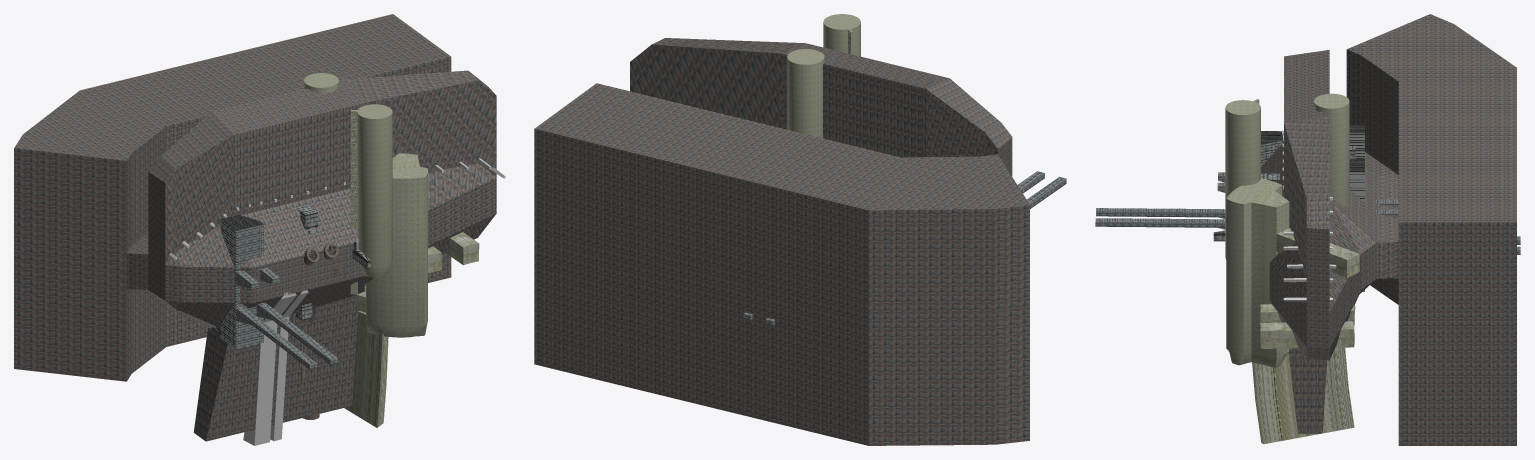
The model's file is SM_Republic_03_00.fbx.
The picture shows the model from 3 angles, left to right: view 1: azimuth 30°, elevation 25°; view 2: azimuth 150°, elevation 25°; view 3: azimuth 270°, elevation 25°; orthographic projection. The views are drawn at different scales.
Parts seen in each view (by area): view 1: SM_Republic_03_00.001, SM_Republic_03_00.006, SM_Republic_03_00, SM_Republic_03_00.002; view 2: SM_Republic_03_00.001, SM_Republic_03_00.006, SM_Republic_03_00; view 3: SM_Republic_03_00.001, SM_Republic_03_00.006, SM_Republic_03_00.
Part boxes in pixels (box(x1,y1,x2,y2)): SM_Republic_03_00.001: box(14, 14, 496, 445); SM_Republic_03_00.006: box(304, 73, 479, 427); SM_Republic_03_00: box(169, 158, 505, 369); SM_Republic_03_00.002: box(291, 243, 347, 419); SM_Republic_03_00.001: box(534, 38, 1029, 445); SM_Republic_03_00.006: box(787, 14, 860, 138); SM_Republic_03_00: box(743, 171, 1066, 326); SM_Republic_03_00.001: box(1261, 14, 1516, 445); SM_Republic_03_00.006: box(1225, 93, 1359, 444); SM_Republic_03_00: box(1095, 125, 1520, 301).
Size of the model in its own units: 228868 by 173060 by 195919.
